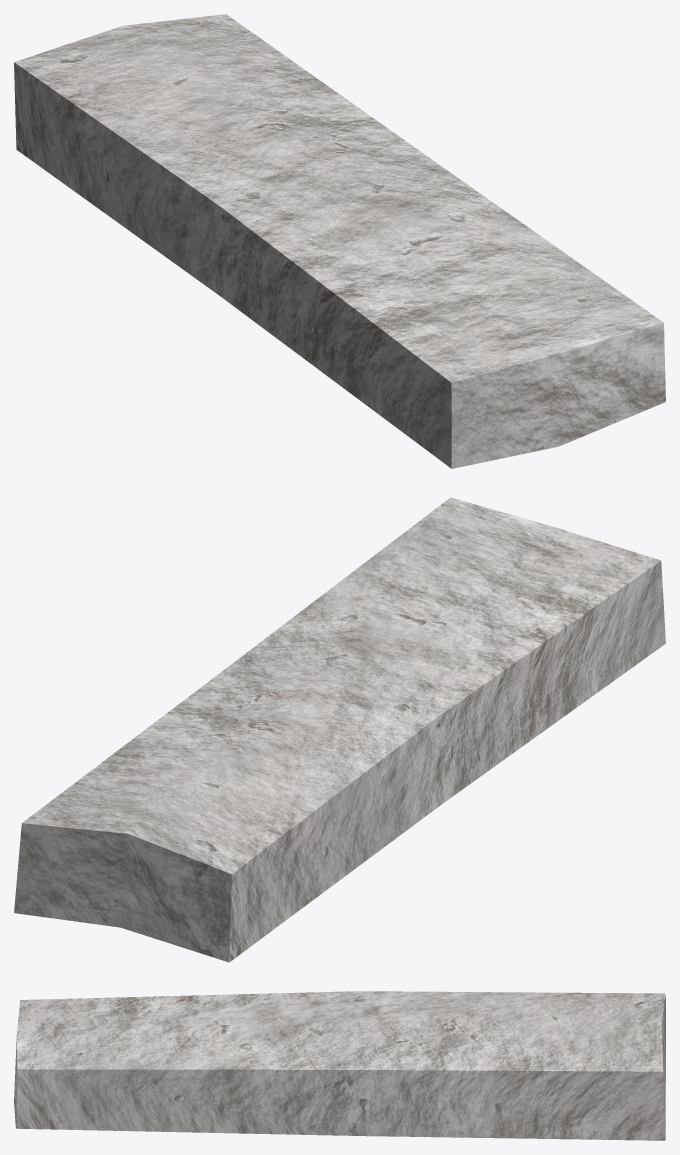
Rendered from step2_LOD2.FBX.
The picture shows the model from 3 angles, top to bottom: view 1: azimuth 30°, elevation 25°; view 2: azimuth 150°, elevation 25°; view 3: azimuth 270°, elevation 25°; orthographic projection. The views are drawn at different scales.
Parts seen in each view (by area): view 1: step2_LOD2; view 2: step2_LOD2; view 3: step2_LOD2.
Part boxes in pixels (x1=…): step2_LOD2: x1=14, y1=14, x2=665, y2=468; step2_LOD2: x1=14, y1=497, x2=665, y2=962; step2_LOD2: x1=14, y1=991, x2=665, y2=1140.
Size of the model in its own units: 49.7 by 23.29 by 172.
